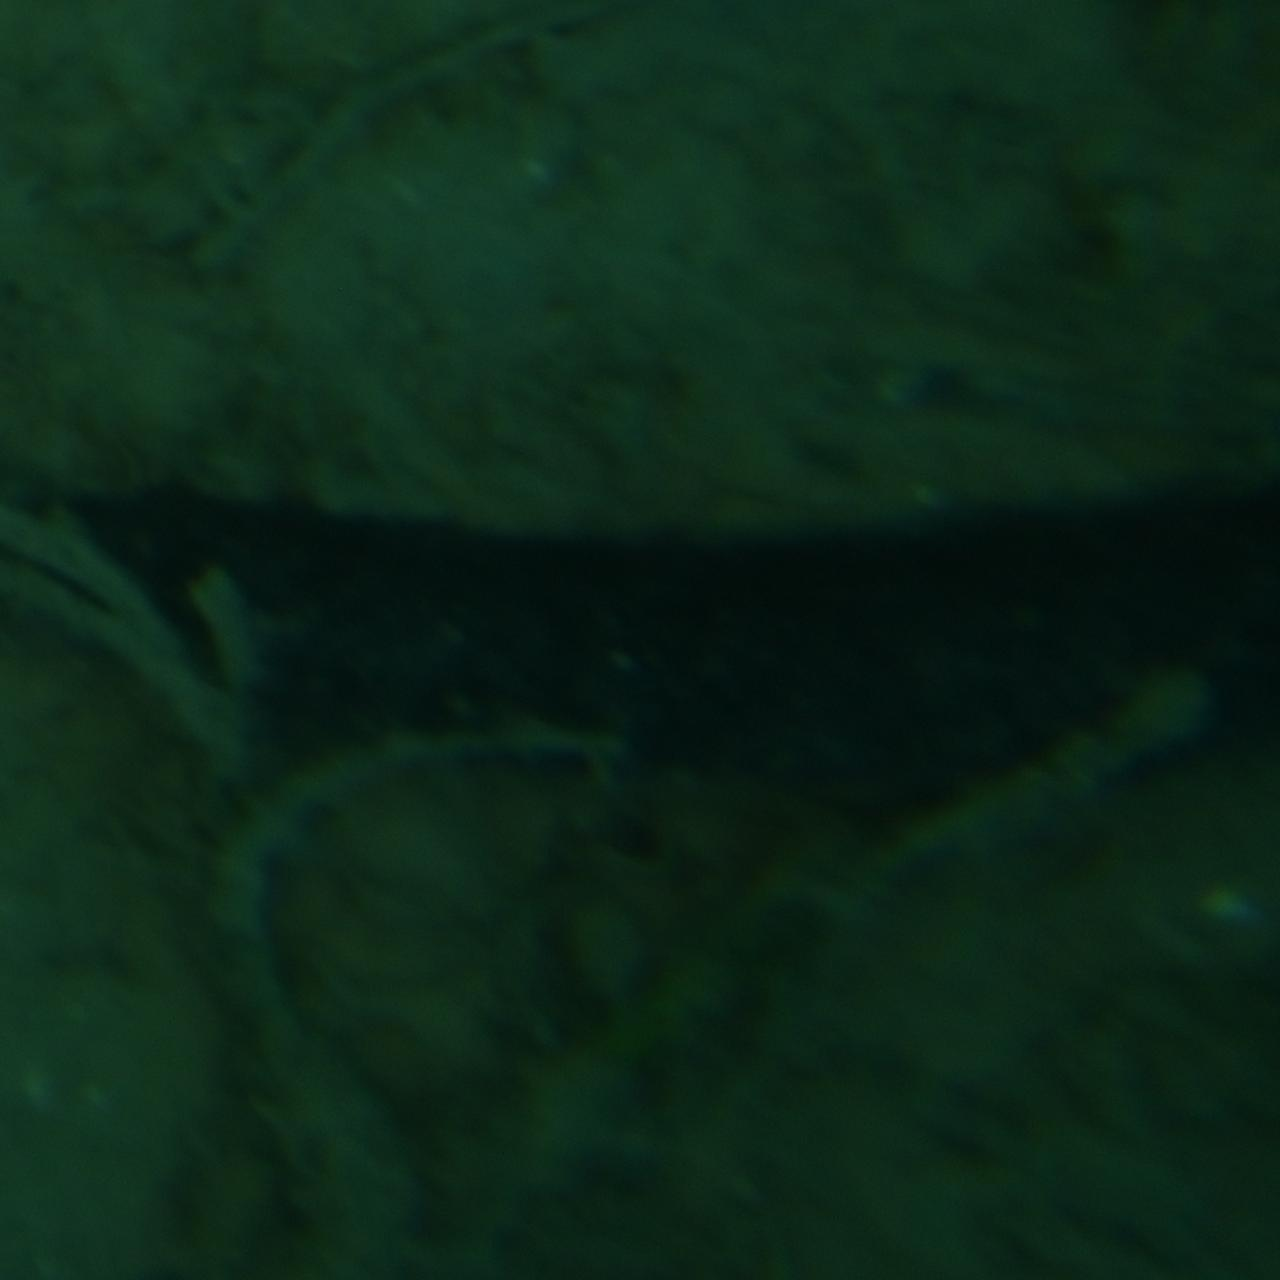Holothuria tubulosa: (0, 442, 1280, 838)
